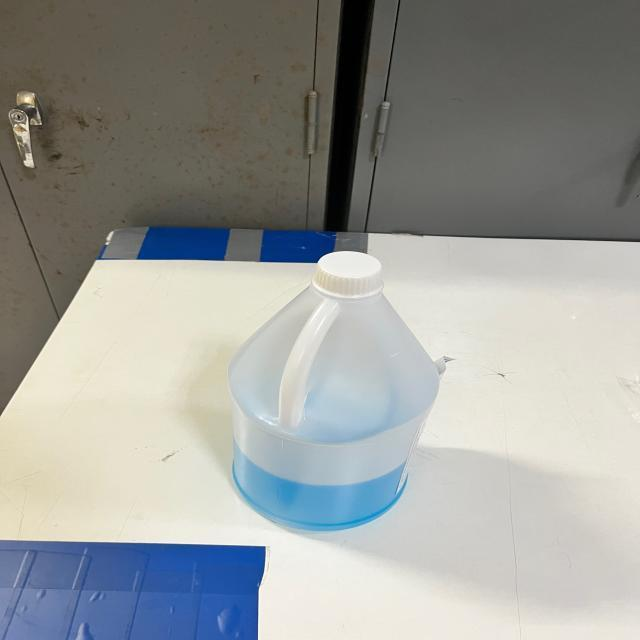HDPE Plastic: (228, 245, 444, 533)
